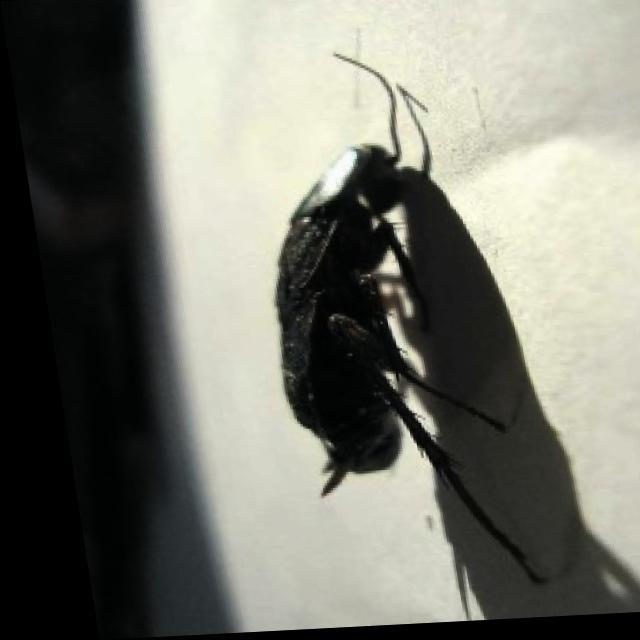cockroach: (268, 44, 553, 590)
